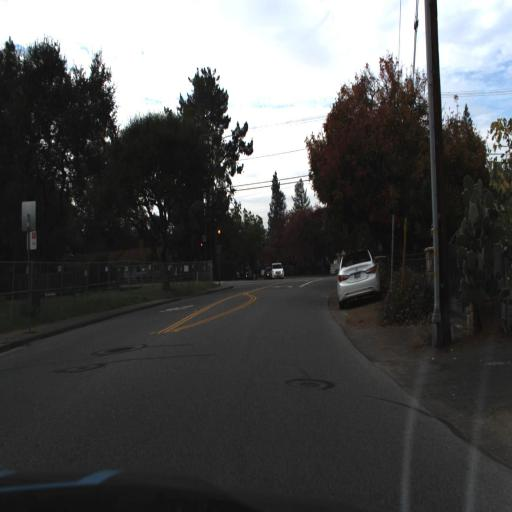car: (331, 241, 385, 309), (271, 256, 288, 284)
trafficLight-Red: (196, 235, 206, 254), (214, 221, 222, 241)
